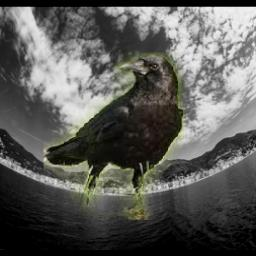Crow: (45, 52, 185, 220)
